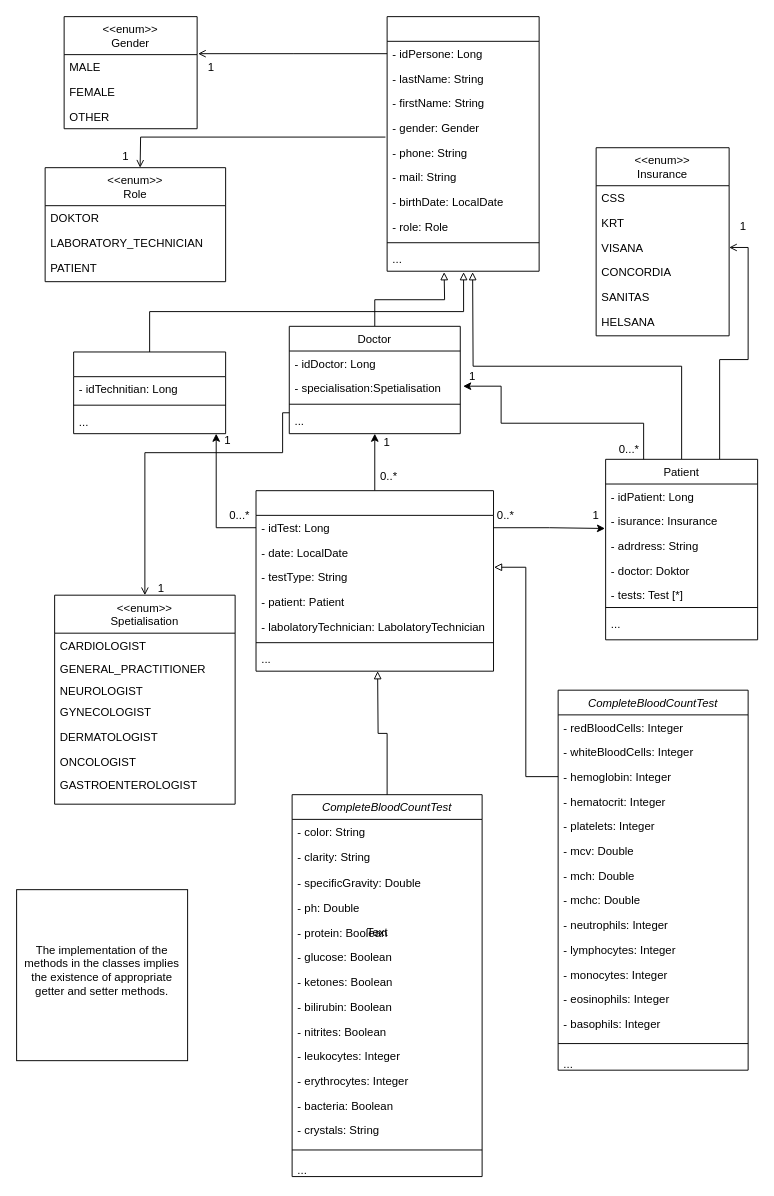
Image size: 774x1196. Some labels were removed from this diagram. The shapes that lost their labels are listed below. From the top down, each one's box as (x1, y1, x2, y2) in pixels, then its label:
(386, 16, 539, 271): User {abstact}
(73, 351, 226, 434): LabolatoryTechnician
(255, 490, 494, 671): Test {abstract}
